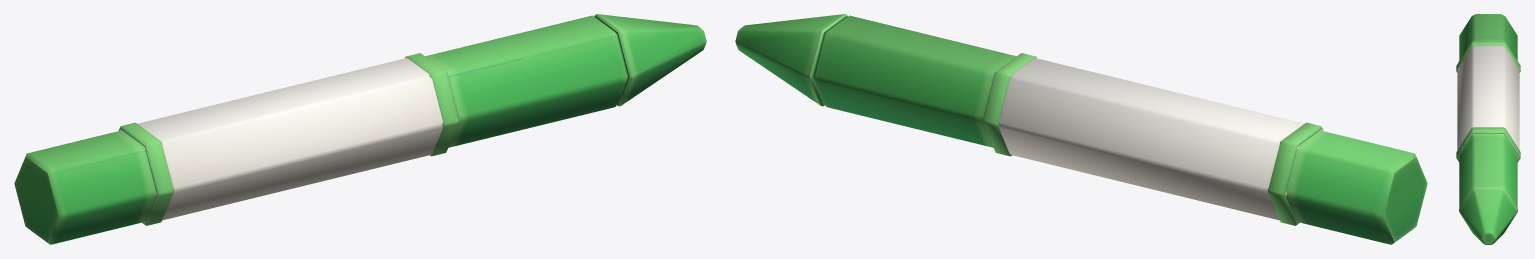
File: toy_crayon_green.glb
The picture shows the model from 3 angles, left to right: view 1: azimuth 30°, elevation 25°; view 2: azimuth 150°, elevation 25°; view 3: azimuth 270°, elevation 25°; orthographic projection. The views are drawn at different scales.
Parts seen in each view (by area): view 1: prop; view 2: prop; view 3: prop.
Part boxes in pixels (bbox=[...]): prop: bbox=[14, 14, 706, 244]; prop: bbox=[735, 14, 1427, 244]; prop: bbox=[1456, 14, 1520, 244].
Bounding box in the file's own units: 7 × 0.8314 × 0.94.
Materials: 1 (1 with a texture image).
